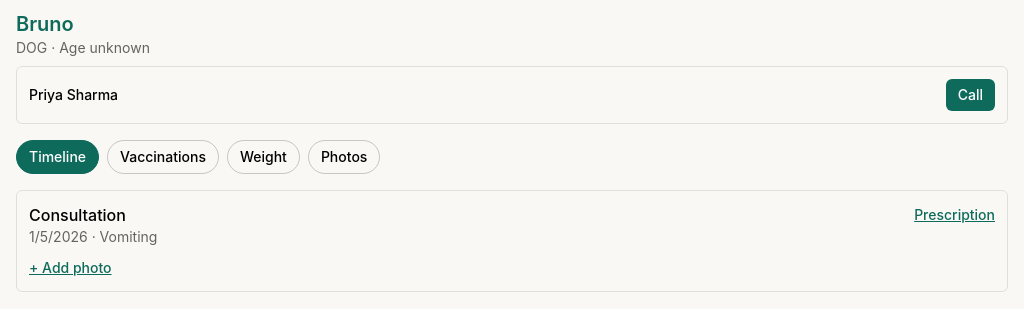
Scenario: PatientProfilePage › switches between tabs
Expected: the text "1/5/2026 · Vomiting" is shown, [29,228,157,245]
Click the button "Vaccinations" at (163, 157), box [107,140,219,174]
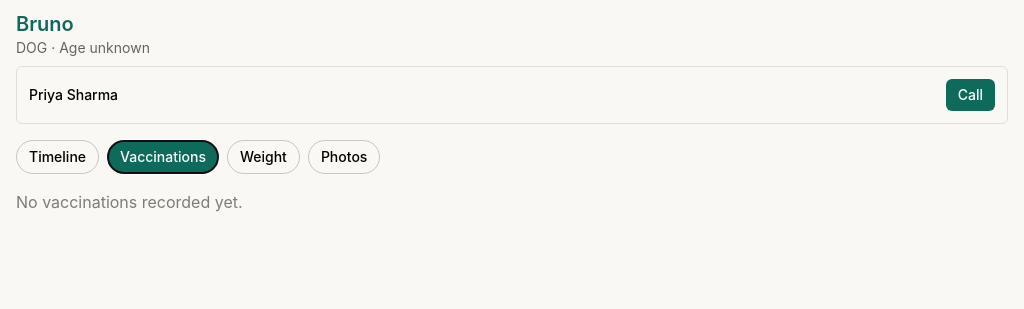
Result: the text "No vaccinations recorded yet." is shown at [16,192,243,212]
Result: the text "Vomiting" is gone
Click the button "Weight" at (263, 157), box [227,140,300,174]
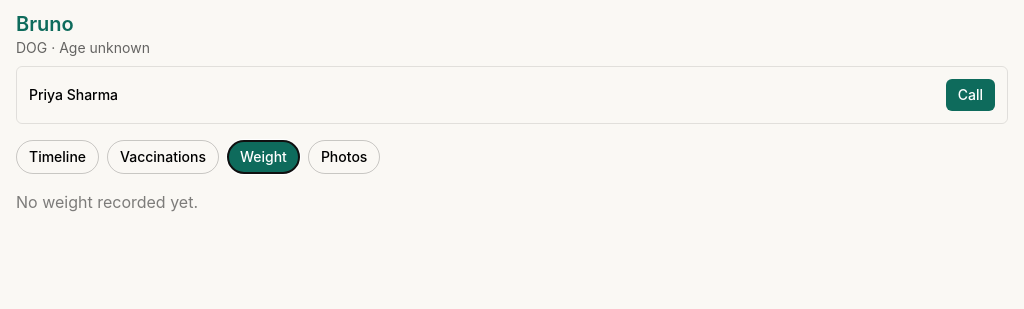
Result: the text "No weight recorded yet." is shown at [16,192,198,212]
Click the button "Photos" at (344, 157), box [308,140,380,174]
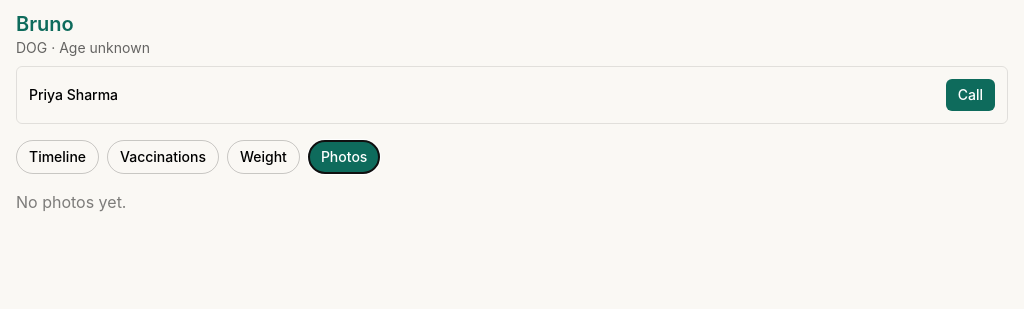
Result: the text "No photos yet." is shown at [16,192,126,212]
Click the button "Timeline" at (58, 157), box [16,140,99,174]
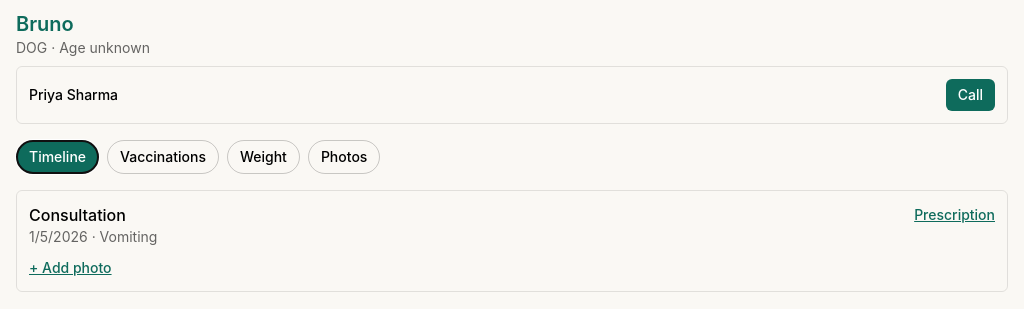
Result: the text "1/5/2026 · Vomiting" is shown at [29,228,157,245]
